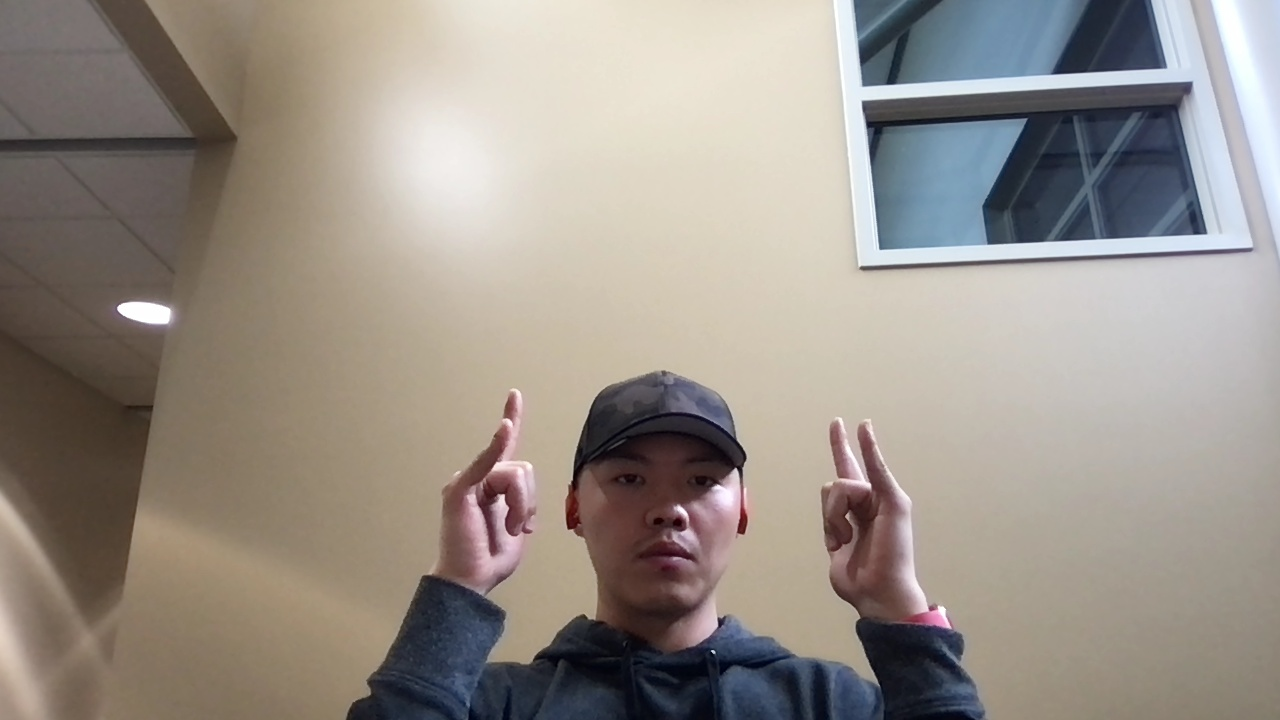I Love You: (814, 407, 939, 616), (433, 380, 546, 595)
